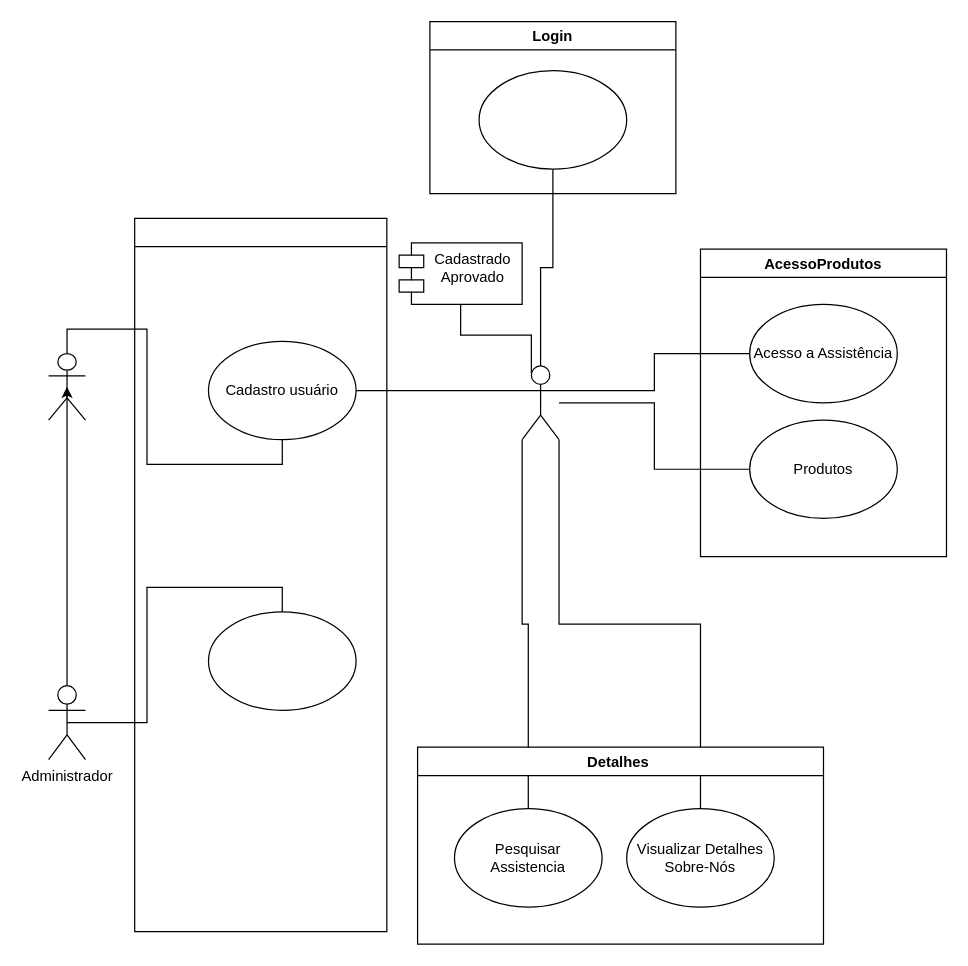
Some shapes in this 968 by 966 pixel diagram are drawn without their labels. The box of each missing label's shape, as (x1, y1, x2, y2) in pixels:
Administração: (133, 217, 387, 932)
Gerenciar Contato: (207, 611, 356, 710)
Login Usuário: (478, 69, 627, 169)
Usuário cadastrado: (521, 365, 559, 440)
Visitante: (47, 352, 85, 420)
